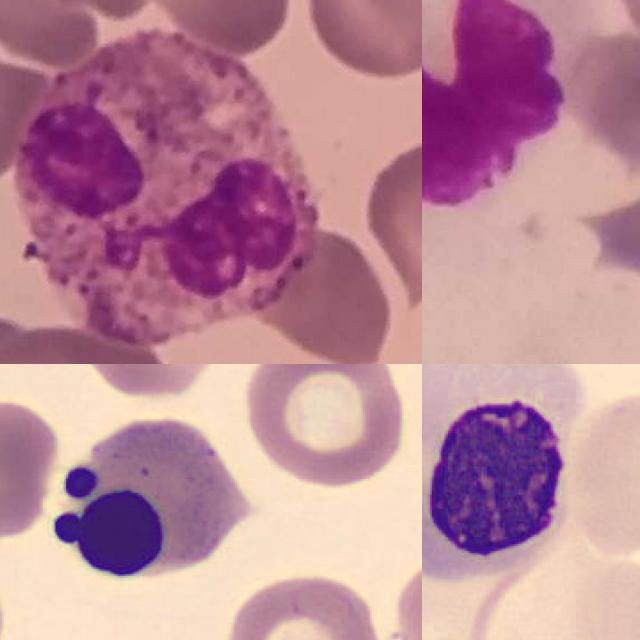Lymphocyte: (30, 403, 260, 601), (422, 364, 584, 588)
Monocyte: (422, 0, 589, 249)
Neutrophil: (18, 33, 321, 347)
RBC: (235, 364, 413, 491), (563, 387, 640, 558), (219, 565, 389, 640), (0, 389, 60, 542), (76, 364, 224, 403), (584, 553, 640, 640), (389, 551, 422, 640)
